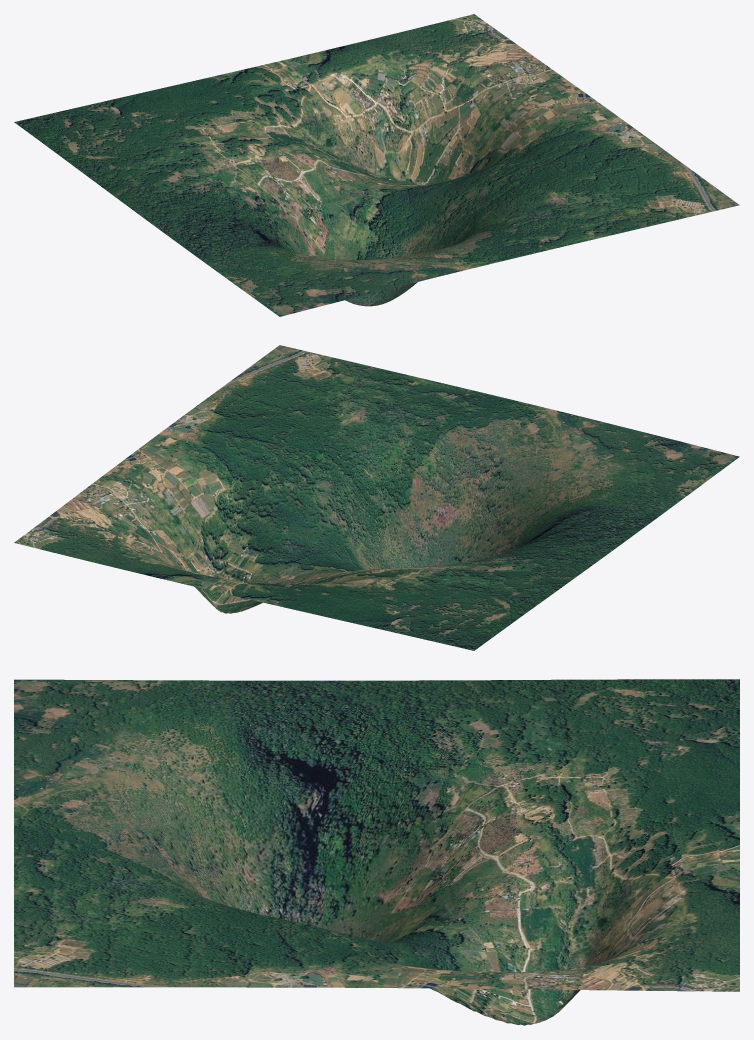
Rendered from terrain_real_T_E00_S05.glb.
The picture shows the model from 3 angles, top to bottom: view 1: azimuth 30°, elevation 25°; view 2: azimuth 150°, elevation 25°; view 3: azimuth 270°, elevation 25°; orthographic projection. The views are drawn at different scales.
Visible parts, largest first — view 1: Terrain_Real_DEM_T_E00_S05; view 2: Terrain_Real_DEM_T_E00_S05; view 3: Terrain_Real_DEM_T_E00_S05.
Boxes of the visible parts, x1,y1,x2,y2 form: Terrain_Real_DEM_T_E00_S05: [14, 14, 739, 316]; Terrain_Real_DEM_T_E00_S05: [14, 345, 739, 650]; Terrain_Real_DEM_T_E00_S05: [14, 679, 739, 1025].
Bounding box in the file's own units: 2000 × 481 × 2000.
Materials: 1 (1 with a texture image).
